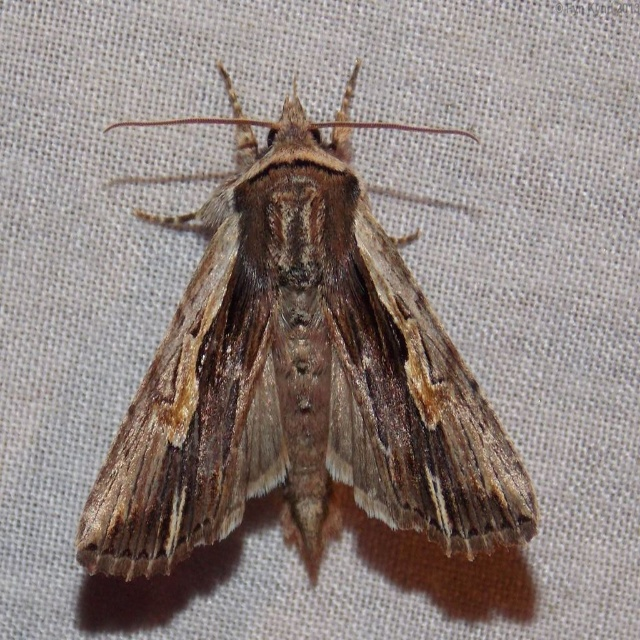Moths and butterflies: (71, 57, 539, 586)
